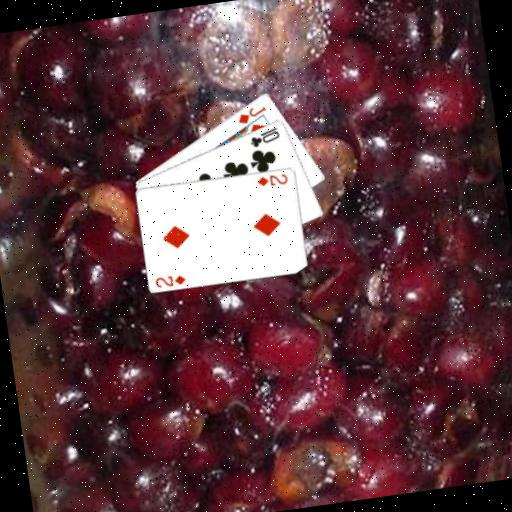10C: (245, 123, 283, 149)
2D: (254, 169, 290, 189), (152, 270, 188, 290)
JD: (233, 103, 269, 127)
